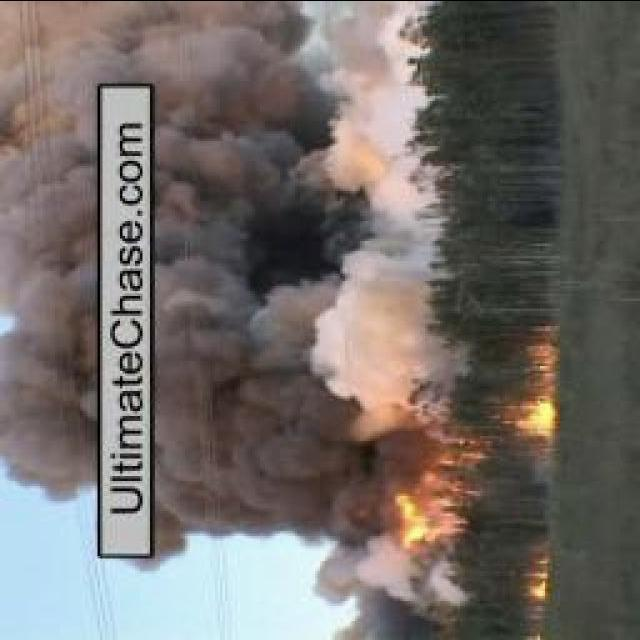Fire: (378, 438, 470, 550), (494, 338, 560, 434), (522, 548, 548, 603)
